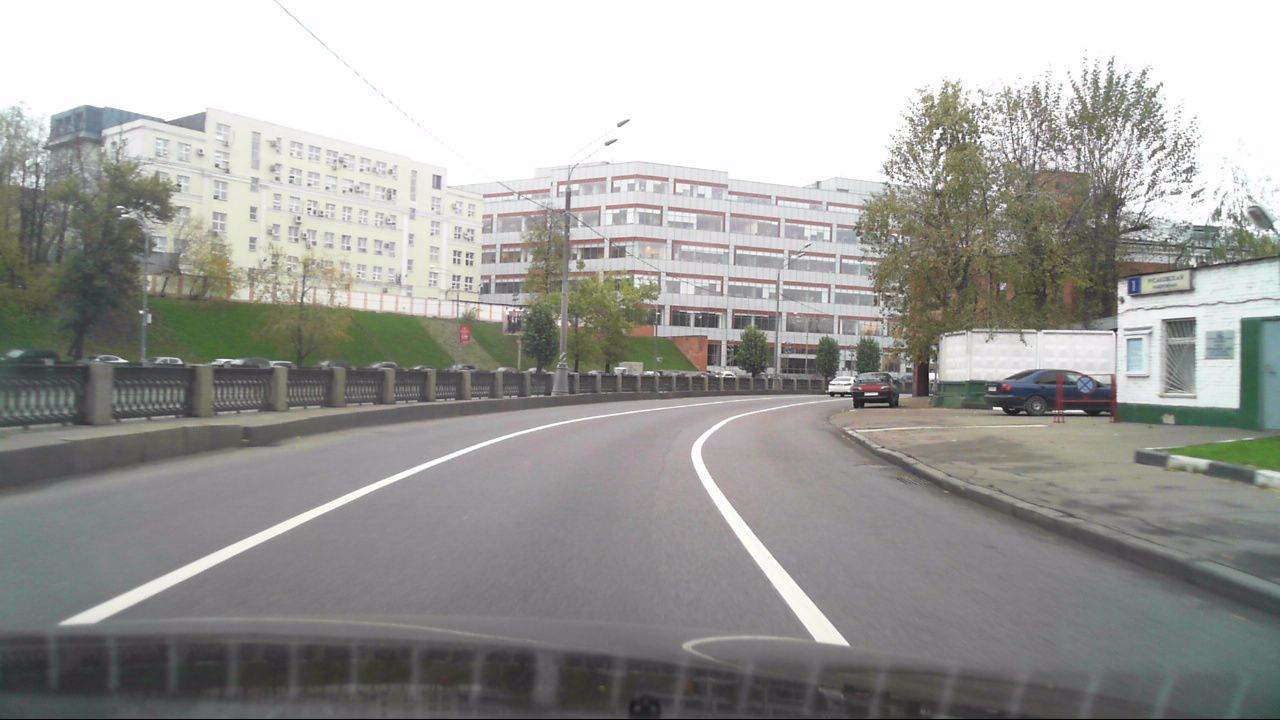No Parking: (1076, 375, 1094, 394)
